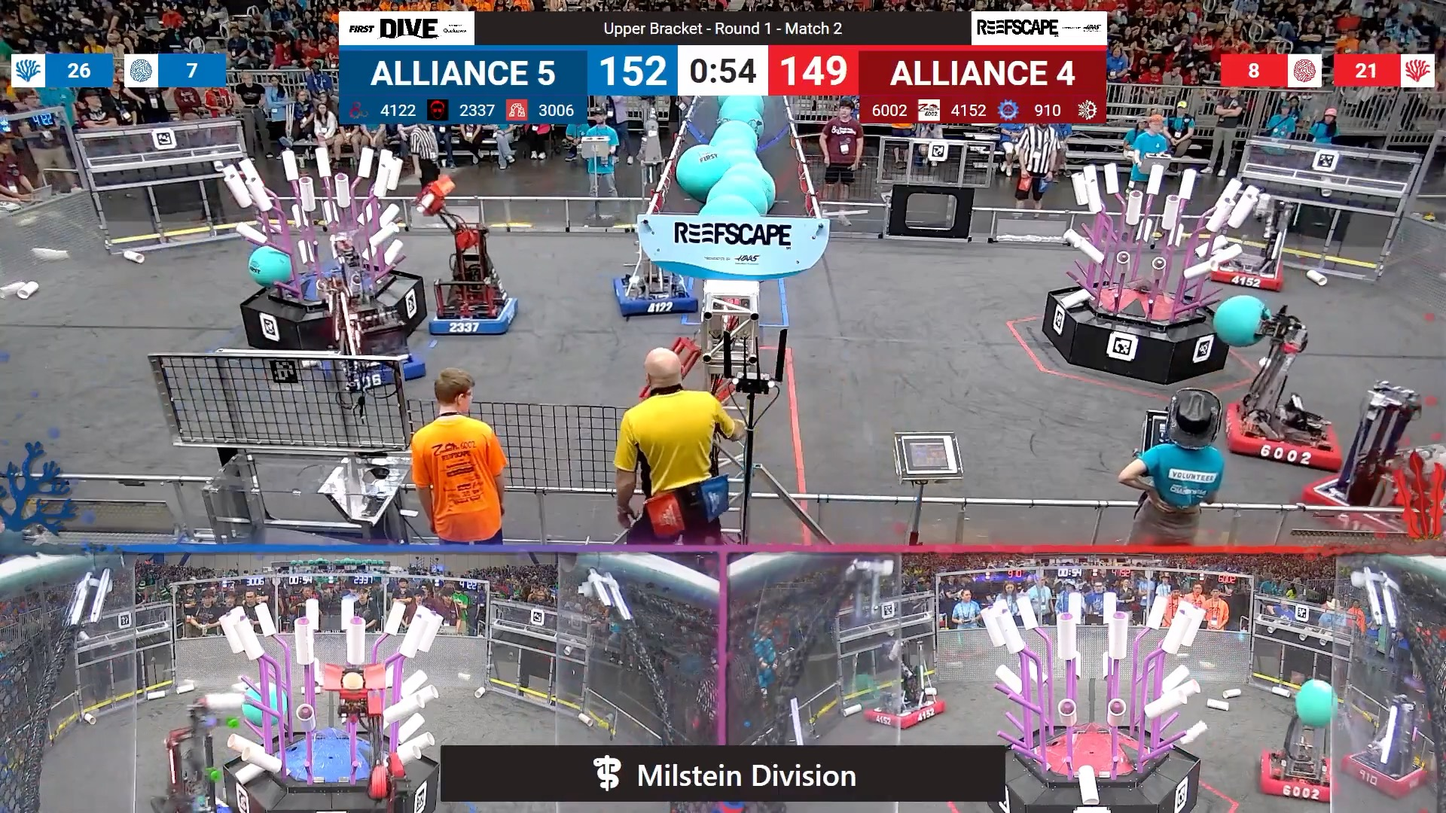bumpers: (1295, 472, 1441, 541), (1217, 396, 1347, 472), (421, 288, 526, 343), (1338, 744, 1441, 799), (315, 345, 431, 391), (1252, 749, 1345, 805), (609, 271, 703, 321), (859, 691, 952, 731), (1197, 257, 1291, 293)
